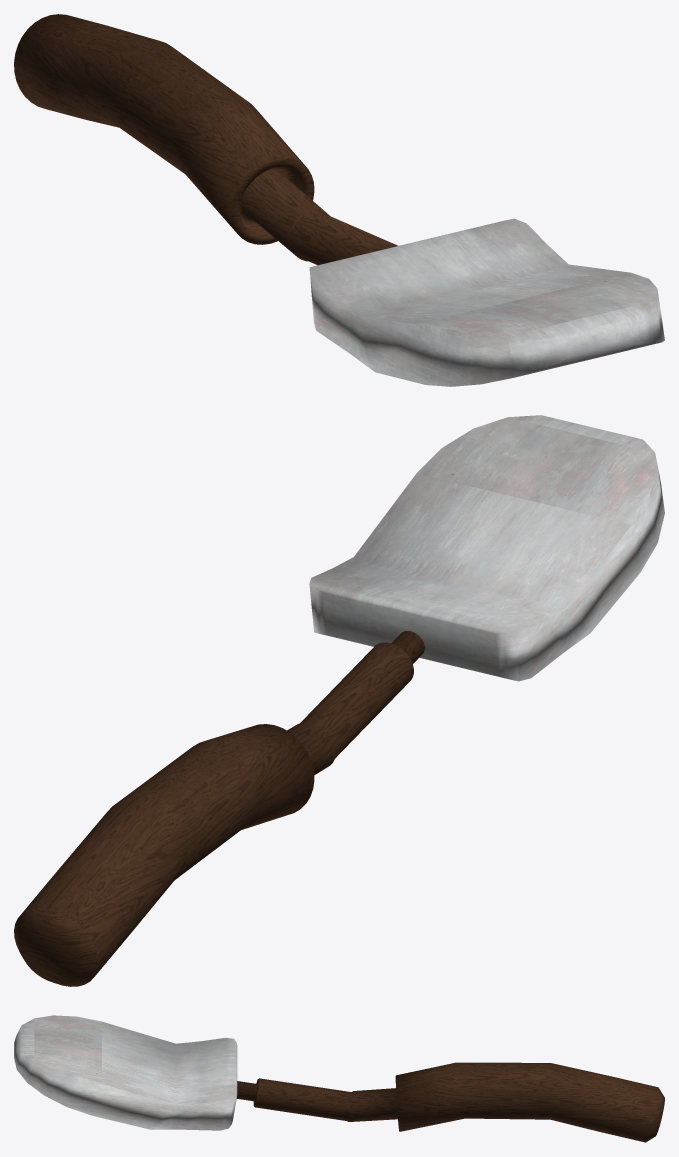
Rendered from trowel.glb.
3 views of the same model, one above another, from view 1: azimuth 30°, elevation 25°; view 2: azimuth 150°, elevation 25°; view 3: azimuth 270°, elevation 25° (orthographic). The views are drawn at different scales.
Parts seen in each view (by area): view 1: Cube, Cylinder; view 2: Cube, Cylinder; view 3: Cylinder, Cube.
Part boxes in pixels (box(x1,y1,x2,y2)): Cube: box(309, 218, 664, 386); Cylinder: box(14, 14, 398, 265); Cube: box(309, 415, 664, 681); Cylinder: box(14, 631, 424, 986); Cylinder: box(236, 1062, 664, 1142); Cube: box(14, 1015, 237, 1130).
Size of the model in its own units: 0.5712 by 0.4335 by 2.55.
Materials: 2 (2 with a texture image).
